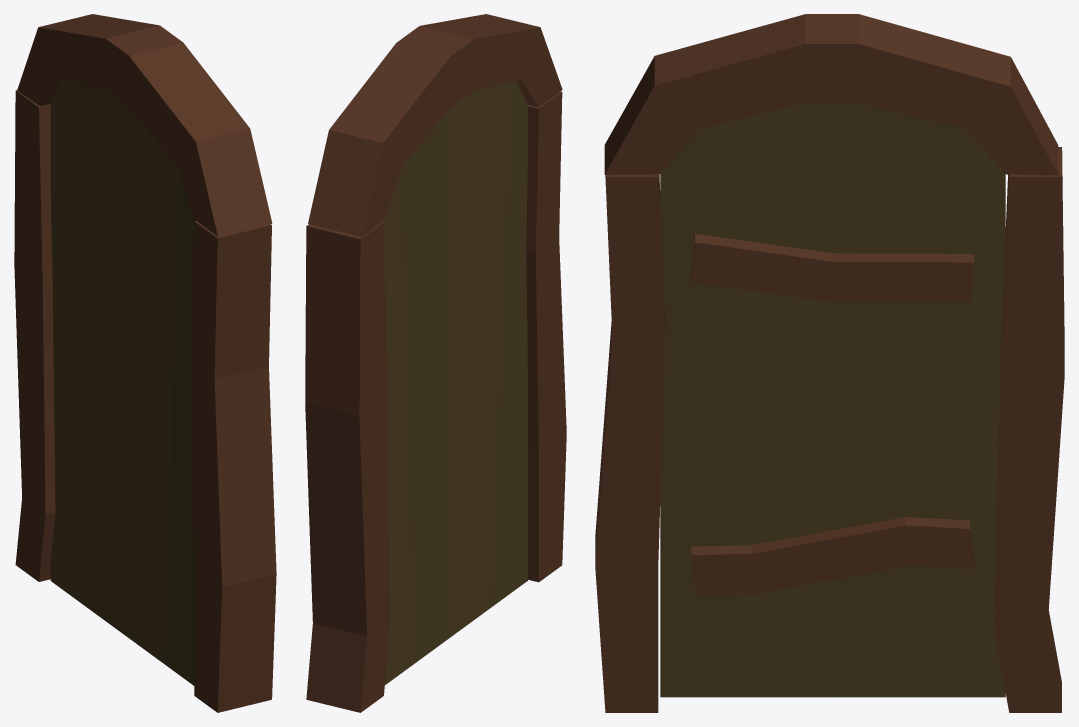
Rendered from StiltDoor_02.fbx.
3 views of the same model, side by side, from view 1: azimuth 30°, elevation 25°; view 2: azimuth 150°, elevation 25°; view 3: azimuth 270°, elevation 25° (orthographic). The views are drawn at different scales.
Parts seen in each view (by area): view 1: Door_2; view 2: Door_2; view 3: Door_2.
Boxes of the visible parts, x1=… form: Door_2: x1=14, y1=14, x2=276, y2=712; Door_2: x1=305, y1=14, x2=566, y2=712; Door_2: x1=595, y1=14, x2=1064, y2=712.
Size of the model in its own units: 10.96 by 114 by 72.54.
